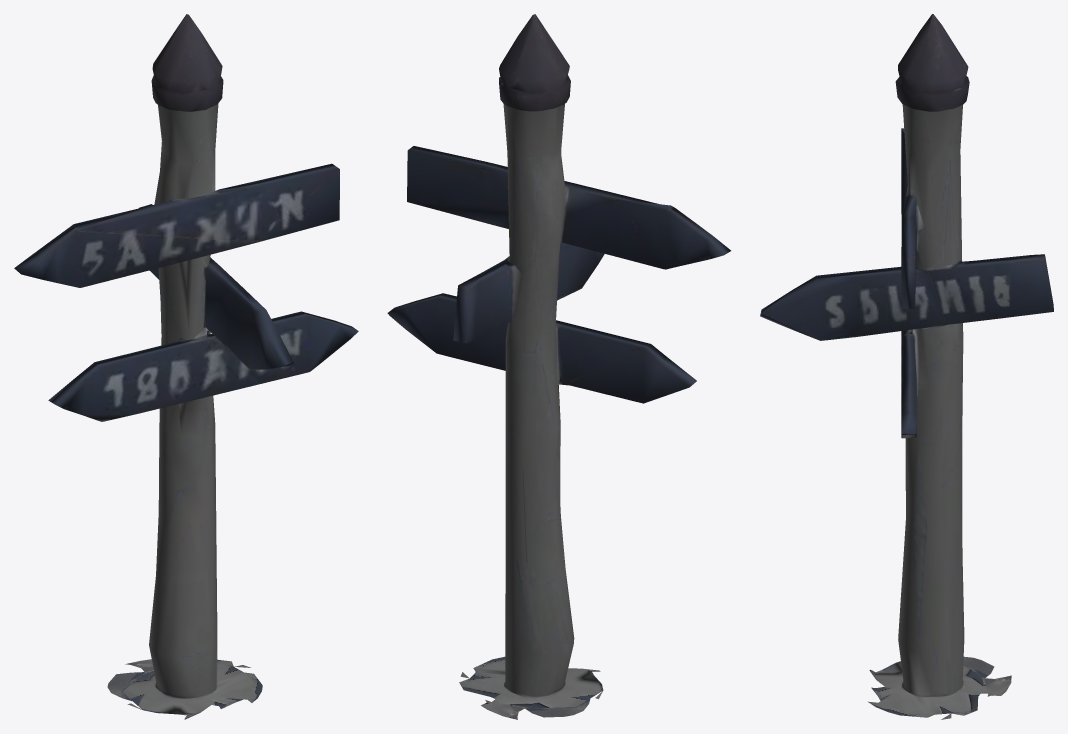
3 views of the same model, side by side, from view 1: azimuth 30°, elevation 25°; view 2: azimuth 150°, elevation 25°; view 3: azimuth 270°, elevation 25° (orthographic).
Bounding box in the file's own units: 0.9941 × 1.9 × 0.7501.
1 material, 1 textured.
